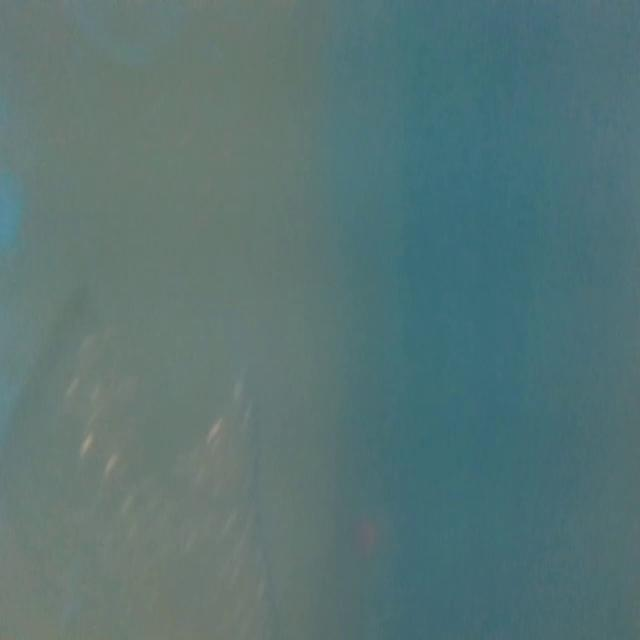plastic bottle: (70, 285, 296, 640)
